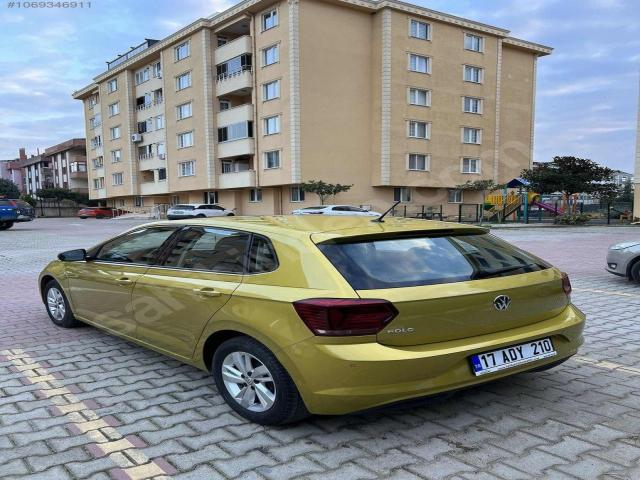plaka: (470, 338, 556, 376)
